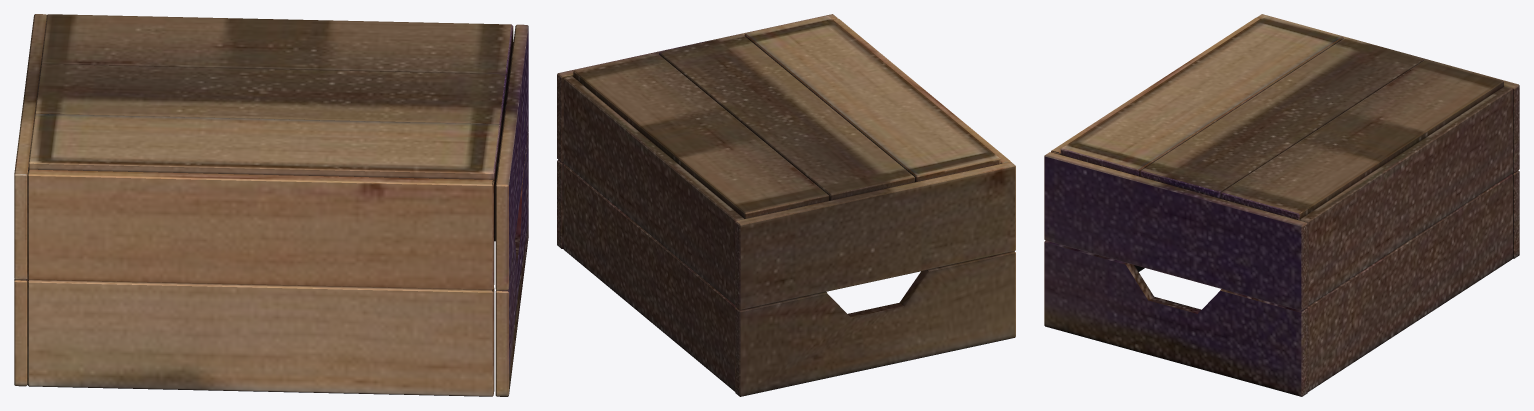
Rendered from wood_box_right.glb.
3 renders of one model, left to right at view 1: azimuth 30°, elevation 25°; view 2: azimuth 150°, elevation 25°; view 3: azimuth 270°, elevation 25°, orthographic. The views are drawn at different scales.
Parts seen in each view (by area): view 1: wood_box_right; view 2: wood_box_right; view 3: wood_box_right.
Part boxes in pixels (left/top/right/bottom): wood_box_right: left=14, top=14, right=528, bottom=396; wood_box_right: left=557, top=14, right=1015, bottom=396; wood_box_right: left=1044, top=14, right=1519, bottom=396.
Size of the model in its own units: 3.39 by 1.31 by 3.2.
1 material, 1 textured.
